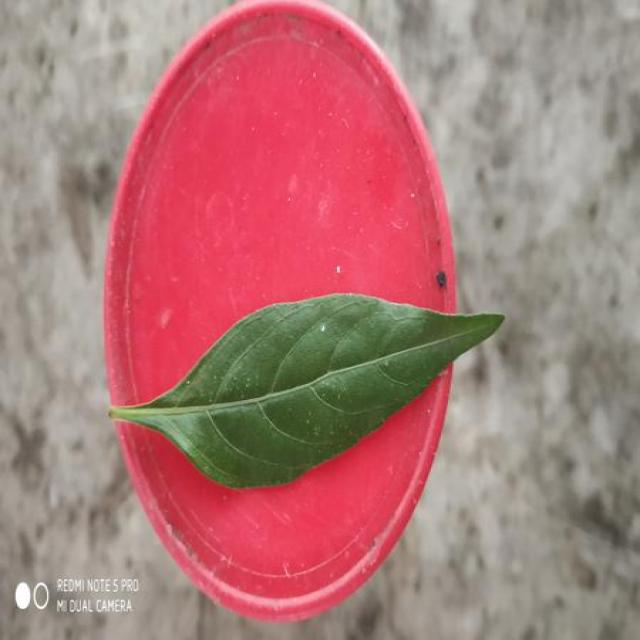Nelavembu: (110, 294, 503, 488)
